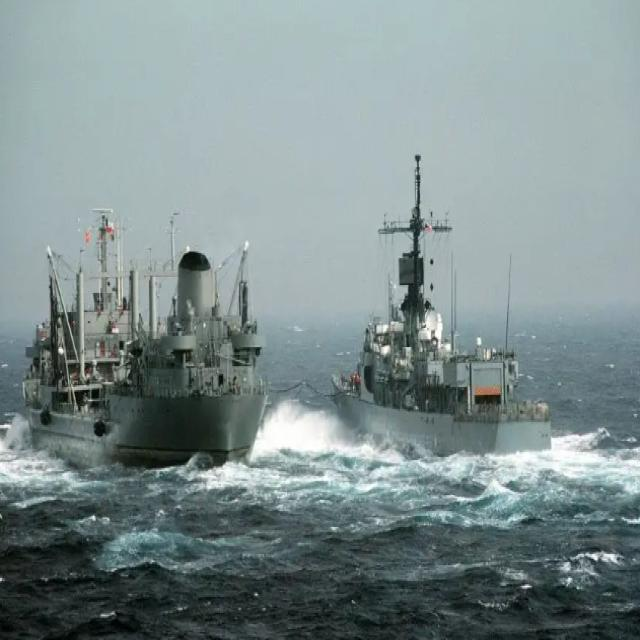navalvessels: (331, 150, 567, 478), (21, 180, 262, 476)
